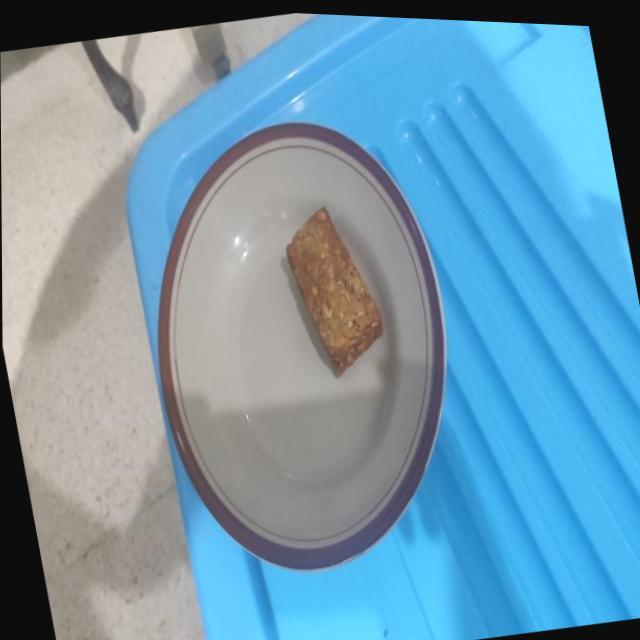tempe_goreng: (286, 208, 382, 374)
